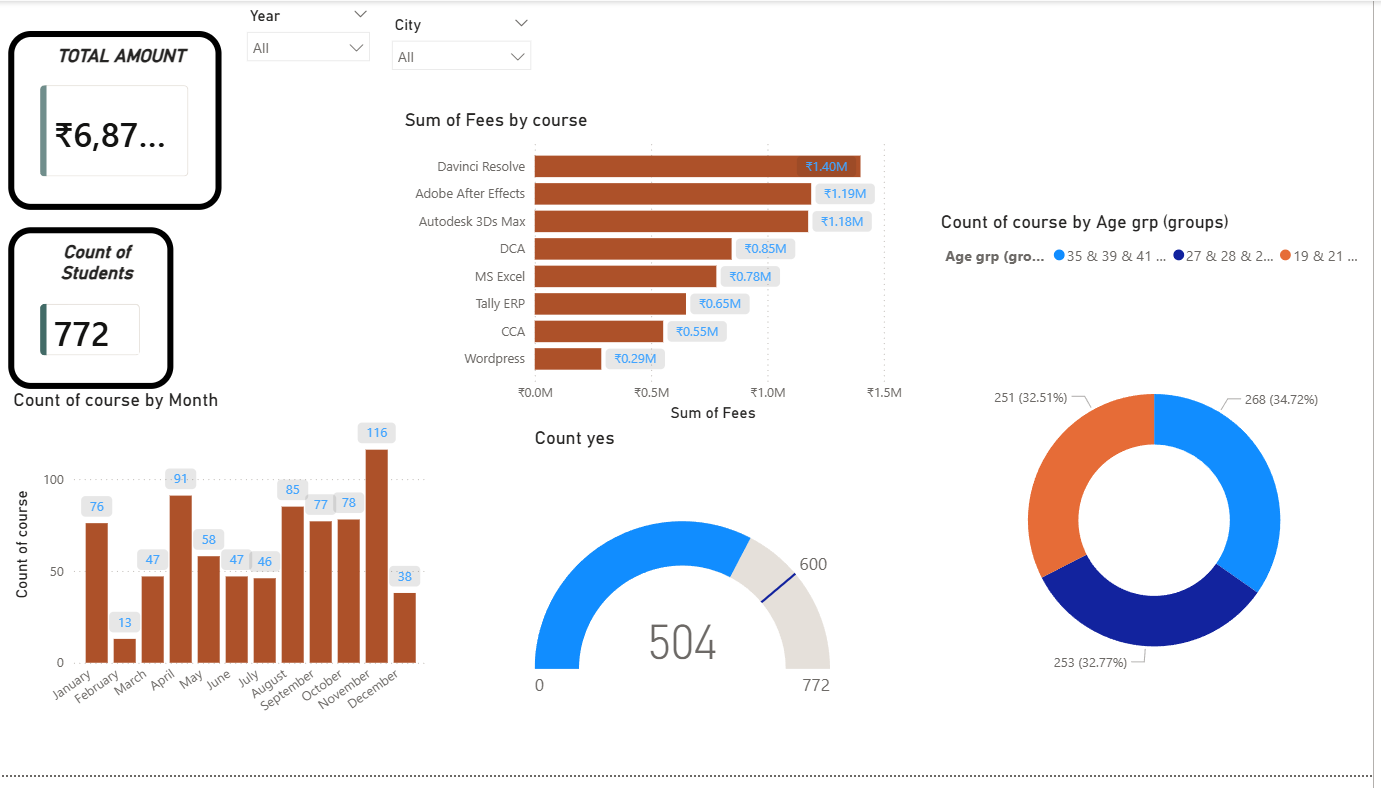

The page's visual inventory and layout, read from the dashboard file:
{"tool":"powerbi","page":{"name":"Report","canvas":[1280,720],"ordinal":0},"visuals":[{"type":"clusteredColumnChart","fields":{"Category":["Student Course Details.doj.Variation.Date Hierarchy.Year","Student Course Details.doj.Variation.Date Hierarchy.Quarter","Student Course Details.doj.Variation.Date Hierarchy.Month","Student Course Details.doj.Variation.Date Hierarchy.Day"],"Y":["CountNonNull(Student Course Details.course)"]},"box":[10,360,395,323.3],"z":0},{"type":"donutChart","fields":{"Y":["CountNonNull(Student Course Details.course)"],"Category":["Student Course Details.Age grp (groups)"]},"box":[873.3,195,406.7,525],"z":1000},{"type":"clusteredBarChart","fields":{"Category":["Student Course Details.course"],"Y":["Sum(Student Course Details.Fees)"]},"box":[375,100,480,296.7],"z":2000},{"type":"cardVisual","title":"TOTAL AMOUNT","fields":{"Data":["Sum(Student Course Details.Fees)"]},"box":[10,28.3,198.3,166.7],"z":3000},{"type":"cardVisual","title":"Count of Students","fields":{"Data":["Count(Student Course Details.Student name)"]},"box":[10,210,153.3,150],"z":4000},{"type":"gauge","fields":{"Y":["Personal details.Count yes"]},"box":[495,396.7,288.3,323.3],"z":5000},{"type":"slicer","fields":{"Values":["Student Course Details.doj.Variation.Date Hierarchy.Year"]},"box":[221.7,0,135,91.7],"z":6000},{"type":"slicer","fields":{"Values":["Personal details.City"]},"box":[356.7,8.3,150,83.3],"z":7000}]}

Visuals, with their boxes in screenshot pixels (x1, y1, x2, y2), scaled from the page's 1280x720 canvas onto the 1381x788 screenshot:
clusteredColumnChart - Student Course Details.doj.Variation.Date Hierarchy.Year x Student Course Details.doj.Variation.Date Hierarchy.Quarter: region(11, 394, 437, 748)
donutChart - CountNonNull(Student Course Details.course) x Student Course Details.Age grp (groups): region(942, 213, 1380, 787)
clusteredBarChart - Student Course Details.course x Sum(Student Course Details.Fees): region(405, 109, 922, 434)
"TOTAL AMOUNT" cardVisual: region(11, 31, 225, 213)
"Count of Students" cardVisual: region(11, 230, 176, 394)
gauge - Personal details.Count yes: region(534, 434, 845, 787)
slicer - Student Course Details.doj.Variation.Date Hierarchy.Year: region(239, 0, 385, 100)
slicer - Personal details.City: region(385, 9, 547, 100)
